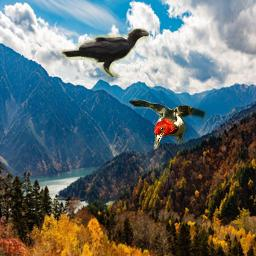Crow: (61, 28, 150, 78)
Woodpecker: (124, 95, 207, 152)
